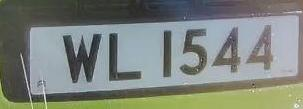1: (151, 24, 184, 84)
4: (244, 17, 281, 83), (210, 19, 245, 82)
5: (174, 23, 213, 83)
L: (103, 25, 149, 89)
W: (60, 25, 105, 90)
